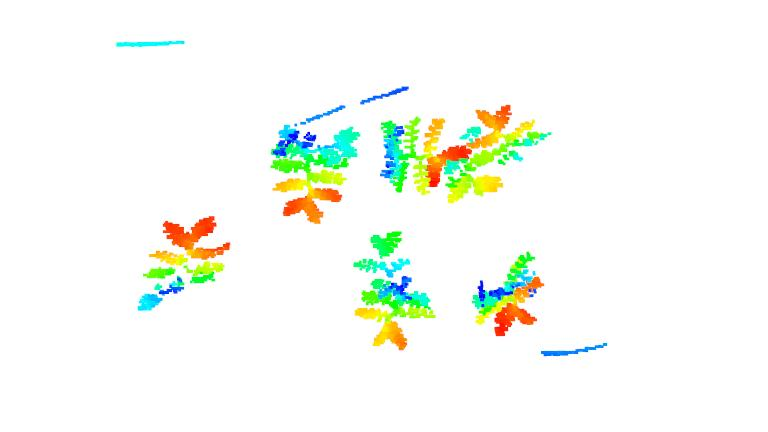chickpea: (353, 229, 438, 350), (135, 213, 233, 313), (270, 121, 362, 222), (381, 115, 471, 197), (472, 253, 545, 338), (468, 102, 552, 168), (444, 155, 504, 203)
